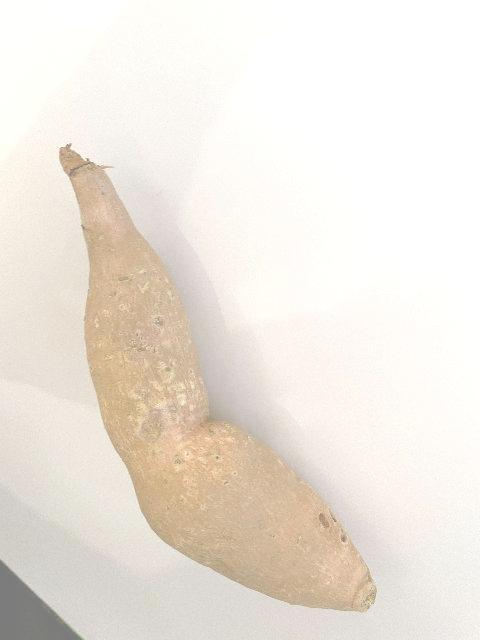sweetpotato: (58, 142, 378, 614)
